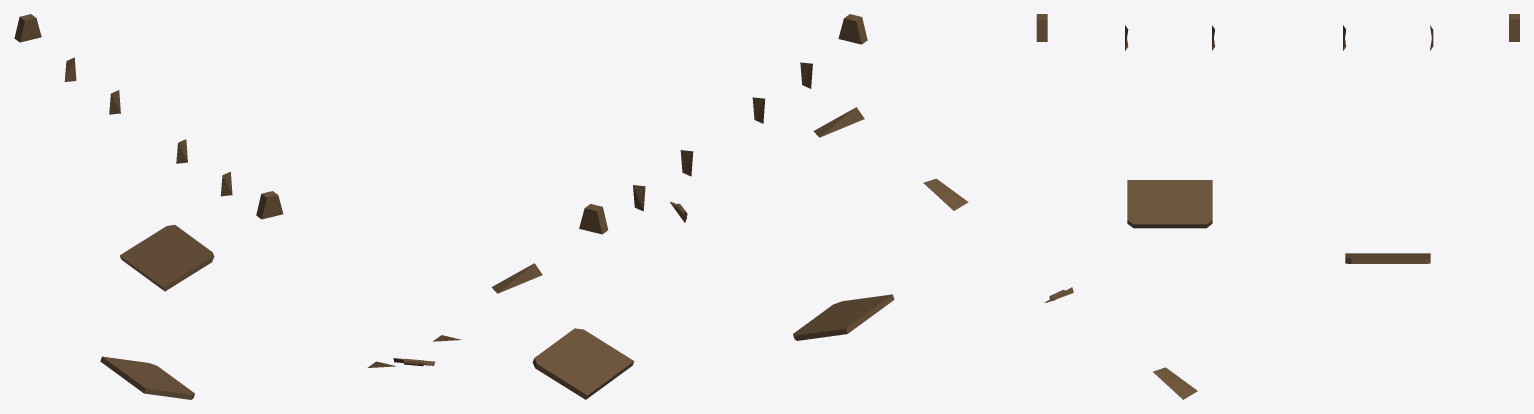
The model's file is swings.lod2.glb.
3 views of the same model, side by side, from view 1: azimuth 30°, elevation 25°; view 2: azimuth 150°, elevation 25°; view 3: azimuth 270°, elevation 25° (orthographic). The views are drawn at different scales.
Visible parts, largest first — view 1: Circle002__0; view 2: Circle002__0; view 3: Circle002__0.
Boxes of the visible parts, left/top/right/bottom form: Circle002__0: left=14, top=14, right=461, bottom=399; Circle002__0: left=491, top=14, right=894, bottom=399; Circle002__0: left=923, top=14, right=1519, bottom=399.
Size of the model in its own units: 3.34 by 2.42 by 5.08.
